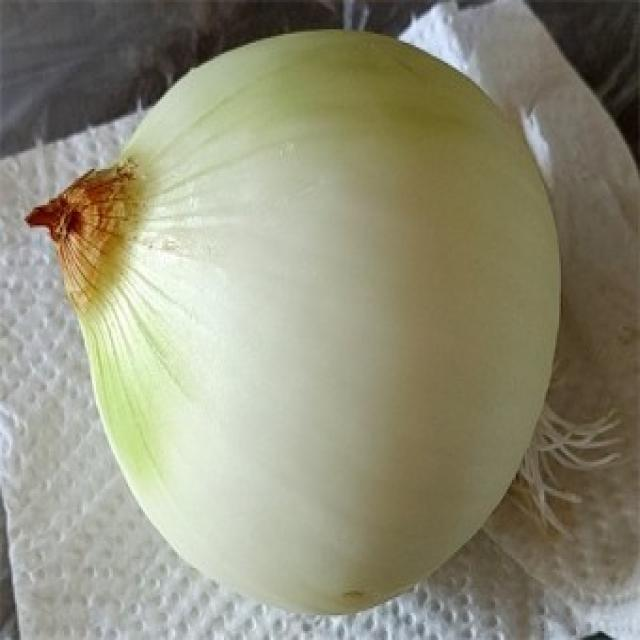onion: (29, 19, 599, 620)
